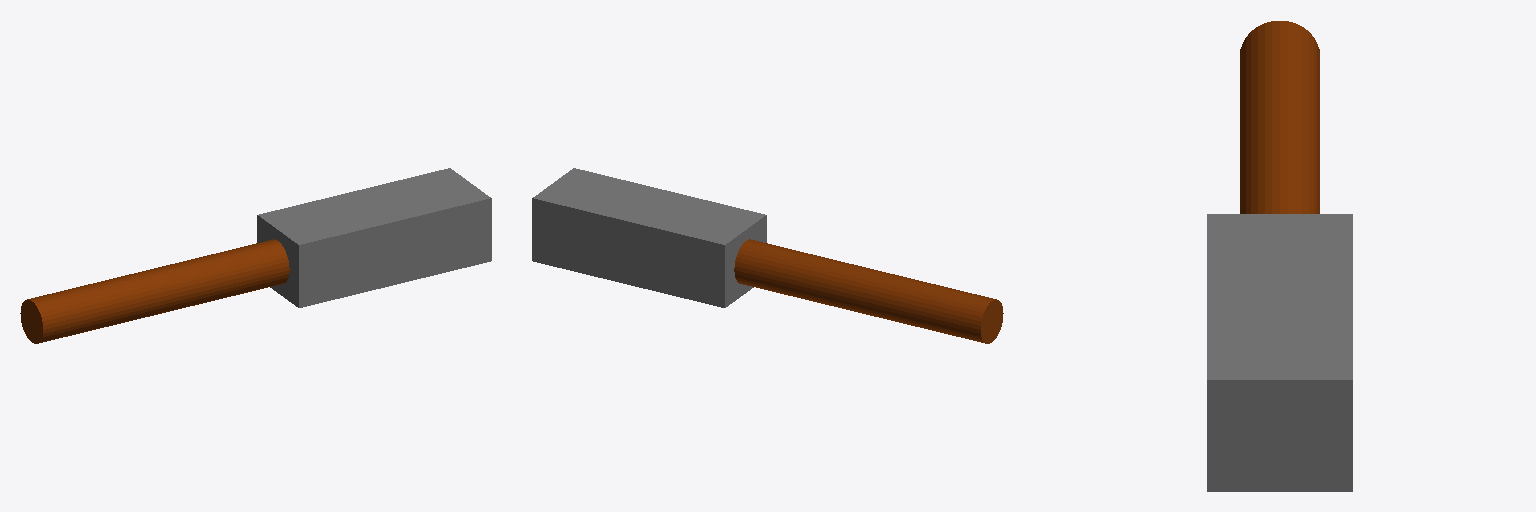
URDF robot description (handle_head):
<?xml version="1.0"?>
<robot name="handle_head">

  <link name="handle_head">
    <!-- Handle -->
    <visual>
              <origin xyz="0 0 0" rpy="0 -1.5707963267948966 0"/>
        <geometry>
          <cylinder length="0.1464941735152083" radius="0.011789108171005102"/>
        </geometry>
        
      <material name="brown">
        <color rgba="0.55 0.27 0.07 1.0"/>
      </material>
    </visual>
    <collision>
              <origin xyz="0 0 0" rpy="0 -1.5707963267948966 0"/>
        <geometry>
          <cylinder length="0.1464941735152083" radius="0.011789108171005102"/>
        </geometry>
        
    </collision>

    <!-- Head -->
    <visual>
              <origin xyz="0.13055094153674104 0 0" rpy="0 0 0"/>
        <geometry>
          <box size="0.1146077095582738 0.04265990344354134 0.03593528199109243"/>
        </geometry>
        
      <material name="gray">
        <color rgba="0.5 0.5 0.5 1.0"/>
      </material>
    </visual>
    <collision>
              <origin xyz="0.13055094153674104 0 0" rpy="0 0 0"/>
        <geometry>
          <box size="0.1146077095582738 0.04265990344354134 0.03593528199109243"/>
        </geometry>
        
    </collision>

    <inertial>
      <origin xyz="0.08800327006890889 0 0" rpy="0 0 0"/>
      <mass value="0.09138159409974239"/>
      <inertia ixx="1.800026081423701e-05" iyy="0.00048276547321880574" izz="0.0004854785374161614" ixy="0" ixz="0" iyz="0"/>
    </inertial>
  </link>

</robot>

--- Render facts (derived) ---
3 views of the same robot in one strip: view 1: azimuth 30°, elevation 25°; view 2: azimuth 150°, elevation 25°; view 3: azimuth 270°, elevation 25° (orthographic).
Model handle_head with 1 links and 0 joints (none), rooted at handle_head, posed every joint at zero.
Links seen in each view (by area): view 1: handle_head; view 2: handle_head; view 3: handle_head.
Link boxes in pixels (x1,y1,x2,y2): handle_head: [20, 168, 491, 343]; handle_head: [532, 168, 1003, 343]; handle_head: [1207, 21, 1352, 491].
Bounding box of the posed robot: 0.2611 × 0.0427 × 0.0359 m (x, y, z).
Geometry: primitives only (box / cylinder / sphere), no mesh files.
